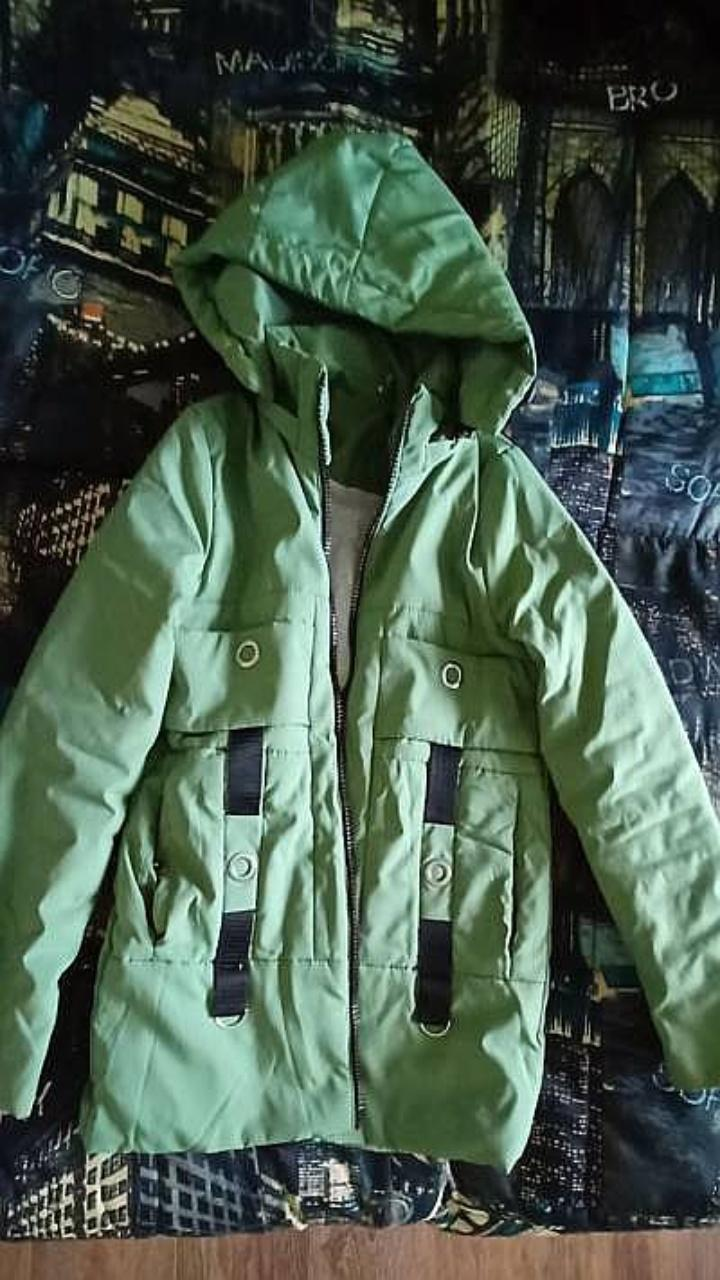Sports_Jacket: (0, 127, 719, 1170)
